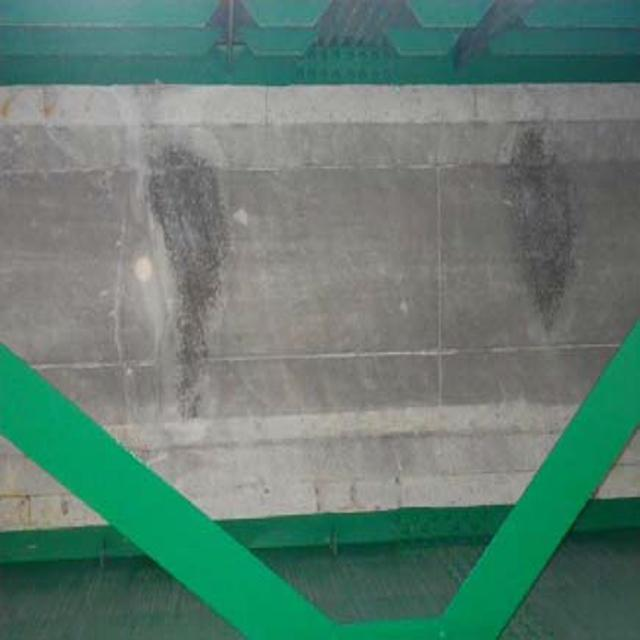leakage: (144, 146, 239, 427), (496, 123, 586, 331)
